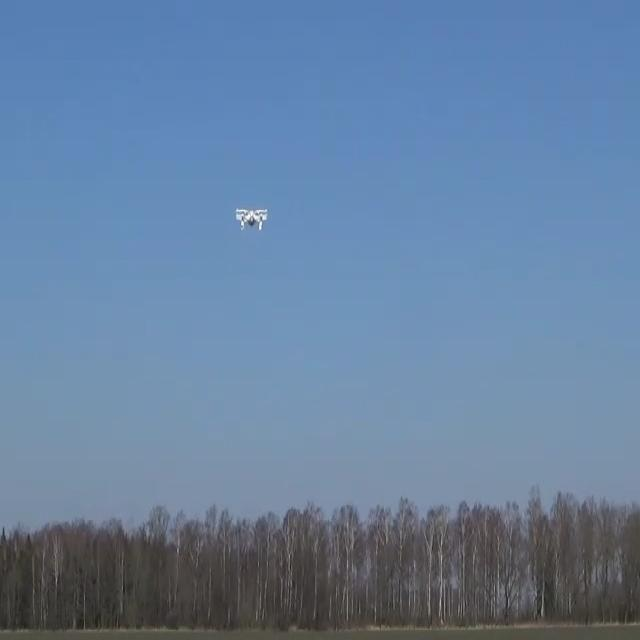drone: (235, 208, 268, 231)
